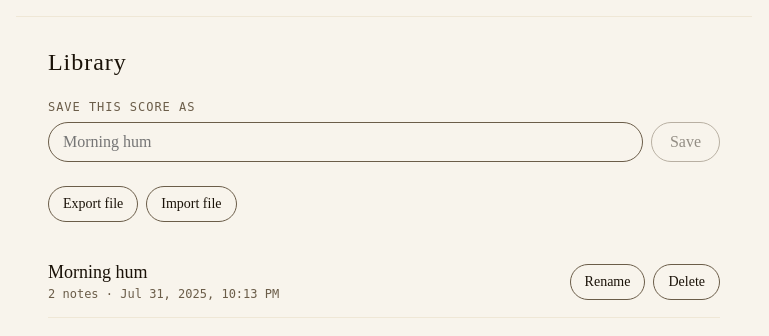
Test case: LibraryPanel: opening and renaming › cancels a rename without changing anything
The width and height of the screenshot is (769, 336).
Click the button "Rename" at (608, 282), box [570,264,646,300]
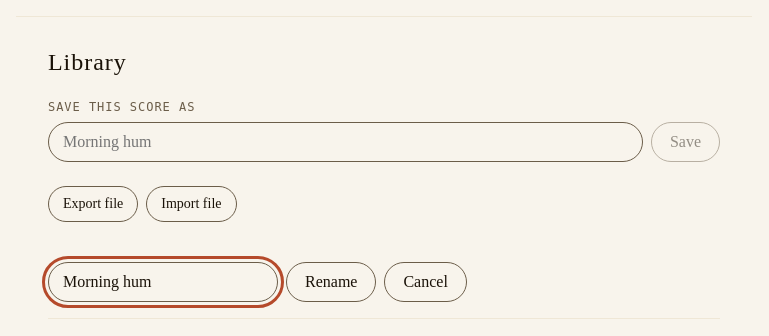
Click the button "Cancel" at (426, 282), box [384,262,467,302]
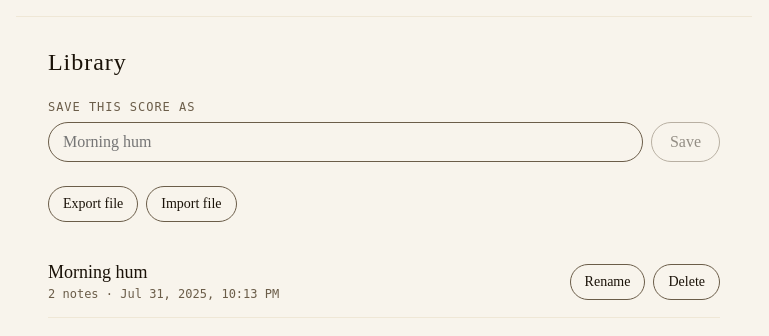
Check: the button "Morning hum 2 notes · Jul 31, 2025, 10:13 PM" is shown, box [44,258,562,305]
